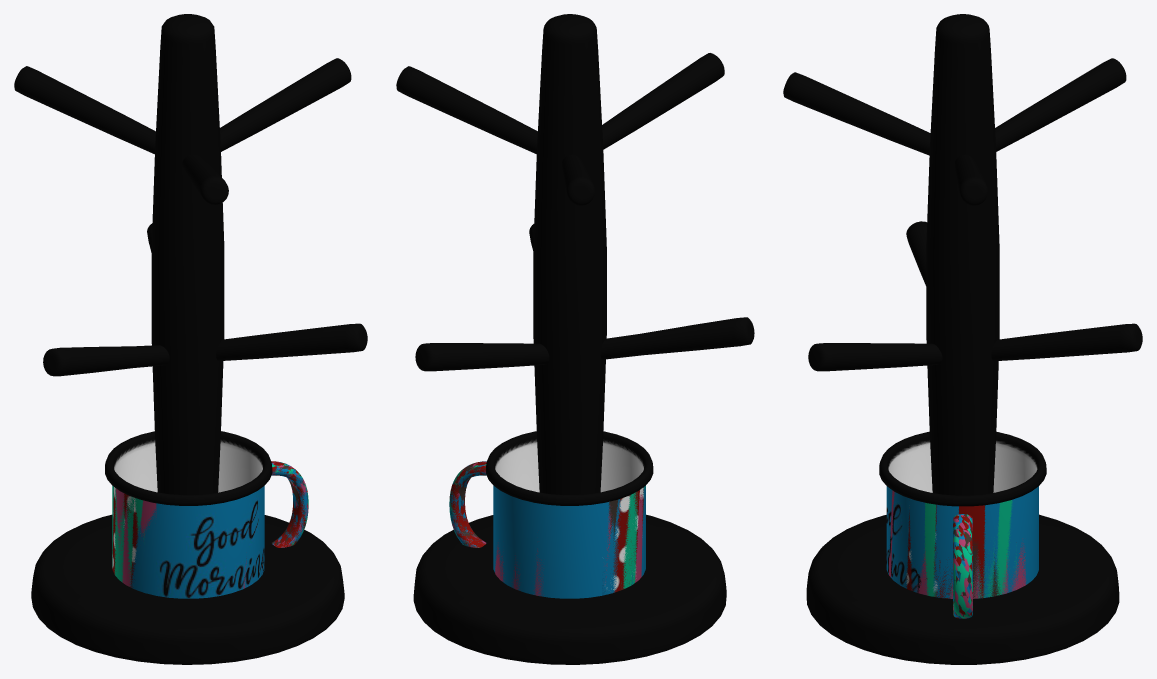
File: holder.glb
3 renders of one model, left to right at view 1: azimuth 30°, elevation 25°; view 2: azimuth 150°, elevation 25°; view 3: azimuth 270°, elevation 25°, orthographic.
Parts seen in each view (by area): view 1: holder, mug_2, mug_1, mug_6, mug_5, mug_3, mug_4; view 2: holder, mug_2, mug_1, mug_3, mug_6, mug_5; view 3: holder, mug_2, mug_1, mug_6, mug_3, mug_5, mug_4.
Boxes of the visible parts, <box> form: holder: <box>14,14,367,664</box>; mug_2: <box>105,431,308,598</box>; mug_1: <box>106,431,307,587</box>; mug_6: <box>105,433,308,584</box>; mug_5: <box>105,435,308,588</box>; mug_3: <box>107,435,307,545</box>; mug_4: <box>106,434,307,544</box>; holder: <box>396,14,754,664</box>; mug_2: <box>449,432,653,598</box>; mug_1: <box>450,431,653,592</box>; mug_3: <box>449,432,651,547</box>; mug_6: <box>449,432,652,588</box>; mug_5: <box>452,432,649,596</box>; holder: <box>783,14,1142,664</box>; mug_2: <box>879,432,1046,618</box>; mug_1: <box>881,431,1043,618</box>; mug_6: <box>887,444,1042,618</box>; mug_3: <box>881,436,1038,617</box>; mug_5: <box>881,438,1044,618</box>; mug_4: <box>893,436,1039,618</box>.
Size of the model in its own units: 0.1879 by 0.319 by 0.179.
1 material, 1 textured.
